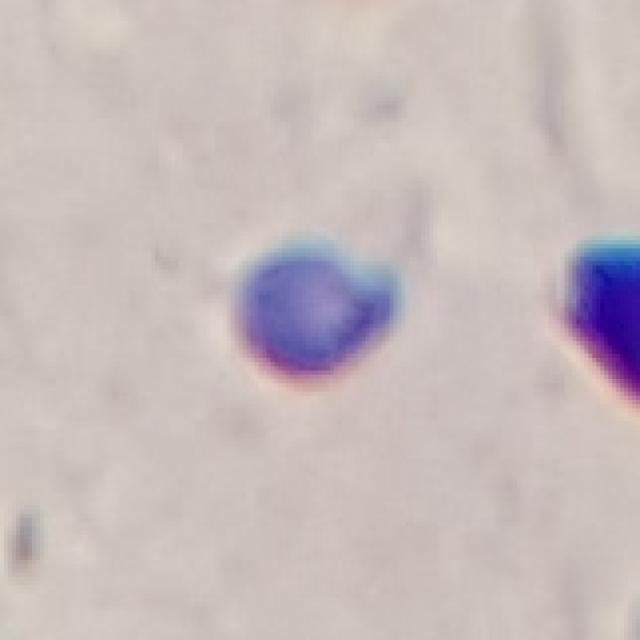non-sperm: (232, 241, 400, 386)
